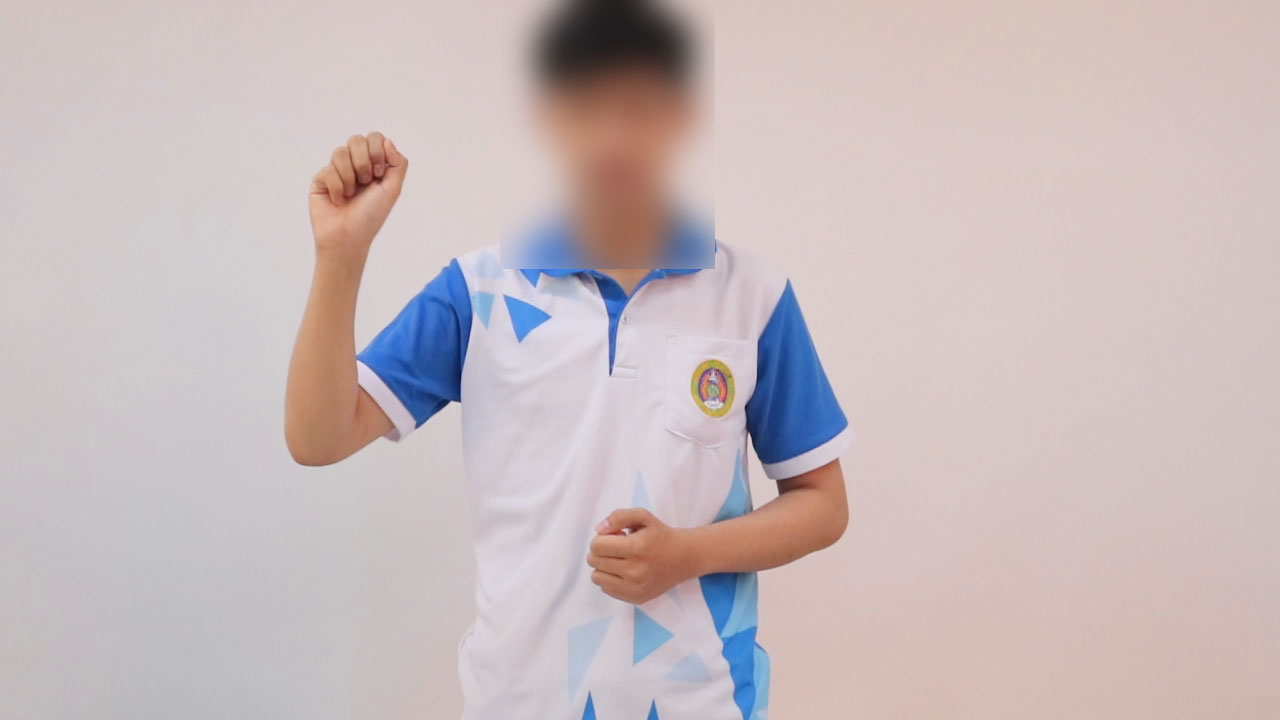sor: (281, 116, 419, 268)
